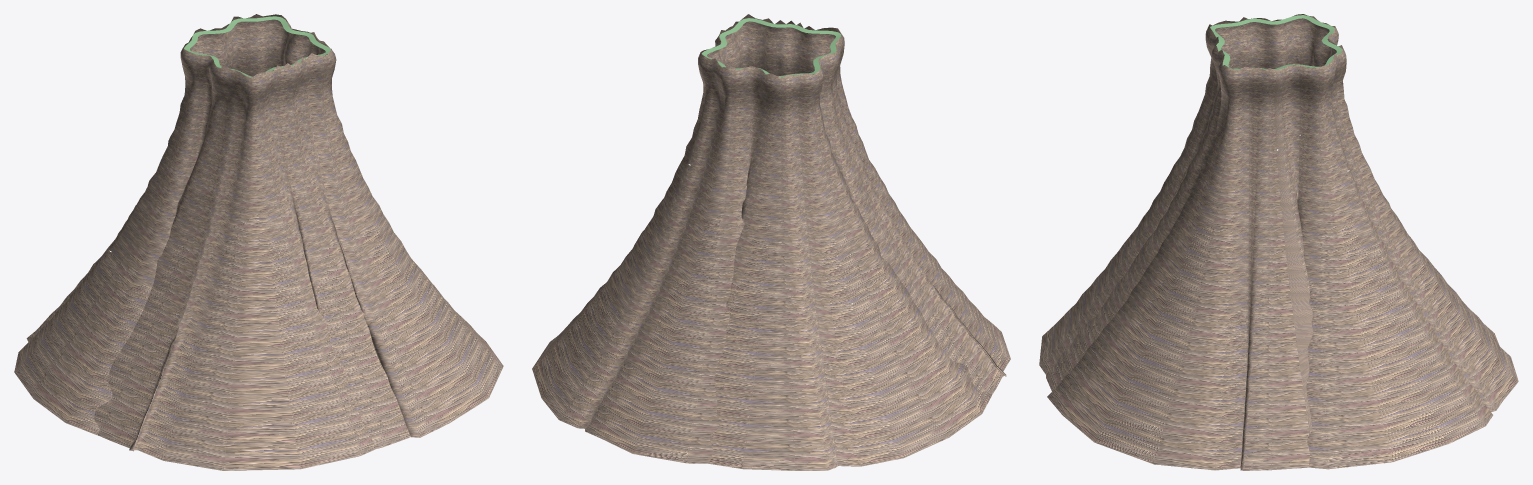
Rendered from CliffWall_stack_04.glb.
3 renders of one model, left to right at view 1: azimuth 30°, elevation 25°; view 2: azimuth 150°, elevation 25°; view 3: azimuth 270°, elevation 25°, orthographic.
Parts seen in each view (by area): view 1: CliffWall_stack_04-rock0, CliffWall_stack_04-lip0; view 2: CliffWall_stack_04-rock0, CliffWall_stack_04-lip0; view 3: CliffWall_stack_04-rock0, CliffWall_stack_04-lip0.
Part boxes in pixels (<box>): CliffWall_stack_04-rock0: <box>14,14,503,470</box>; CliffWall_stack_04-lip0: <box>184,16,330,77</box>; CliffWall_stack_04-rock0: <box>532,14,1010,470</box>; CliffWall_stack_04-lip0: <box>701,18,841,77</box>; CliffWall_stack_04-rock0: <box>1039,14,1518,470</box>; CliffWall_stack_04-lip0: <box>1210,15,1342,70</box>.
Size of the model in its own units: 700 by 545 by 714.
4 materials, 1 textured.
